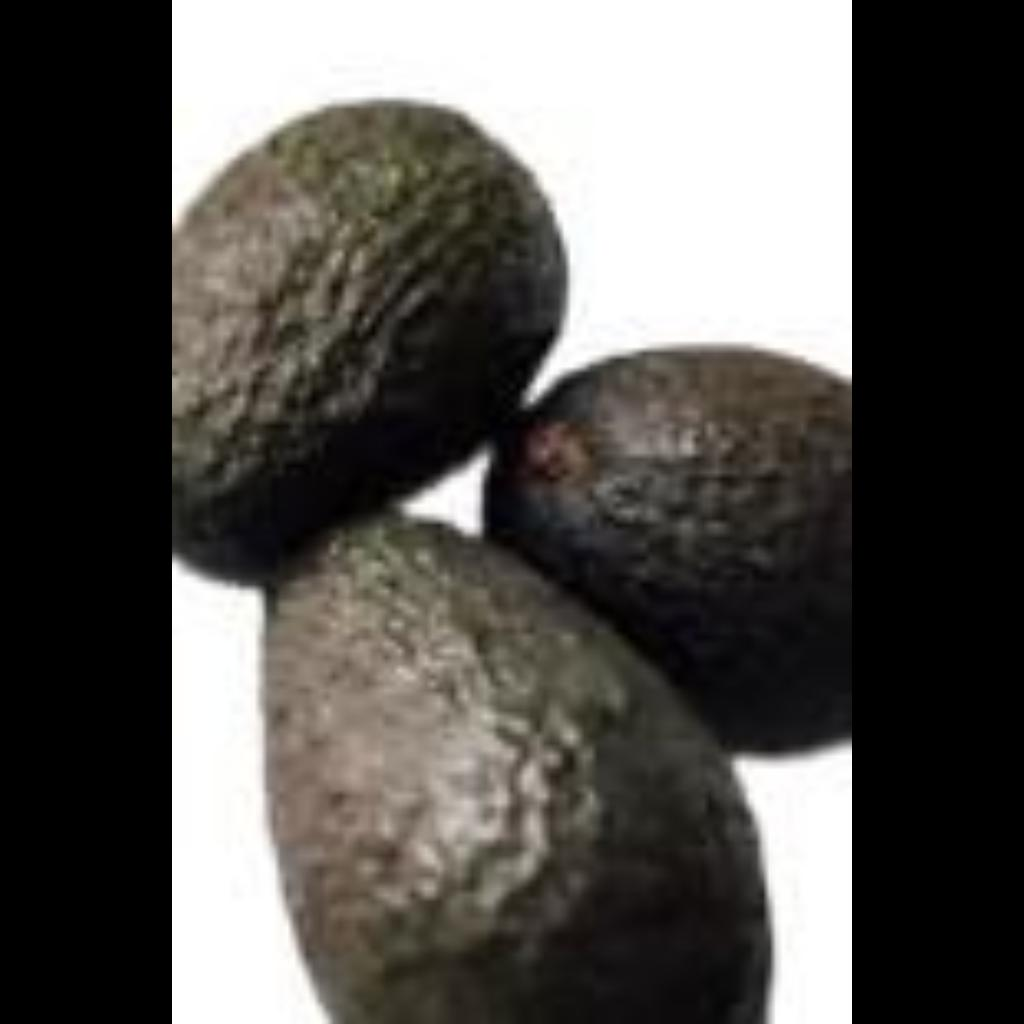antracnosis_fruto: (231, 575, 773, 1018), (182, 72, 532, 501), (542, 360, 846, 578)
